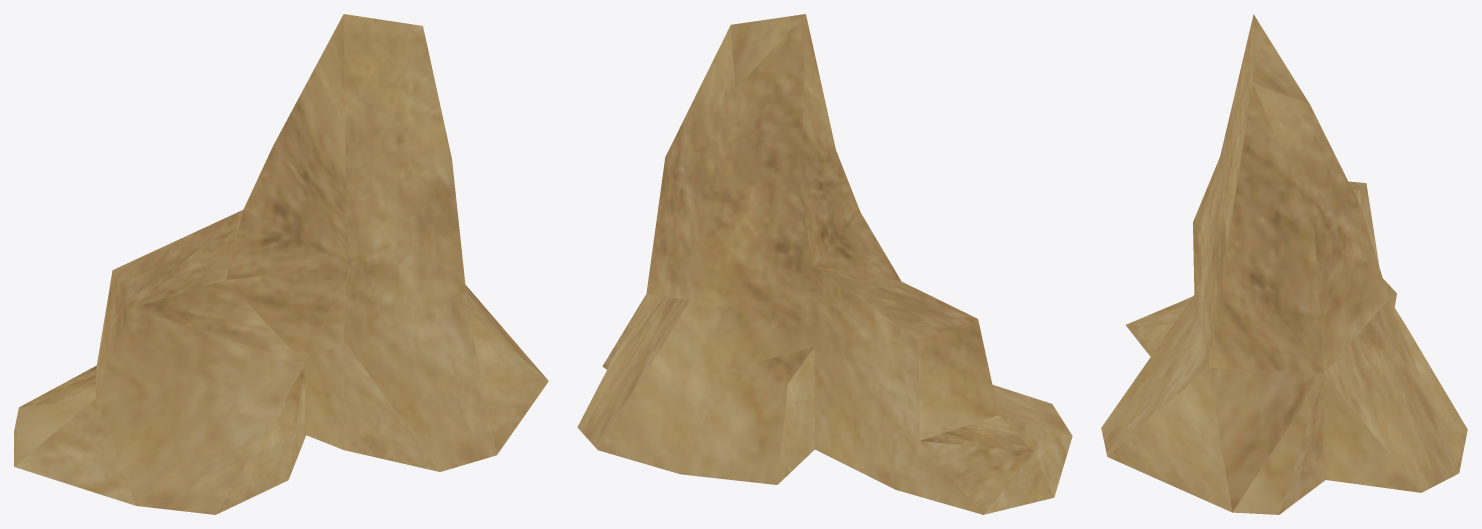
Rendered from rock_clump01.glb.
3 views of the same model, side by side, from view 1: azimuth 30°, elevation 25°; view 2: azimuth 150°, elevation 25°; view 3: azimuth 270°, elevation 25° (orthographic). The views are drawn at different scales.
Visible parts, largest first — view 1: Outcropping1; view 2: Outcropping1; view 3: Outcropping1.
Part boxes in pixels (left/top/right/bottom): Outcropping1: left=14, top=14, right=548, bottom=514; Outcropping1: left=577, top=14, right=1072, bottom=514; Outcropping1: left=1101, top=14, right=1467, bottom=514.
Bounding box in the file's own units: 23.23 × 18.29 × 15.03.
1 material, 1 textured.
